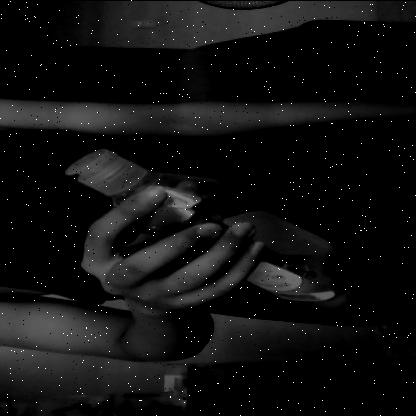Plastic Bottle: (51, 146, 399, 311)
